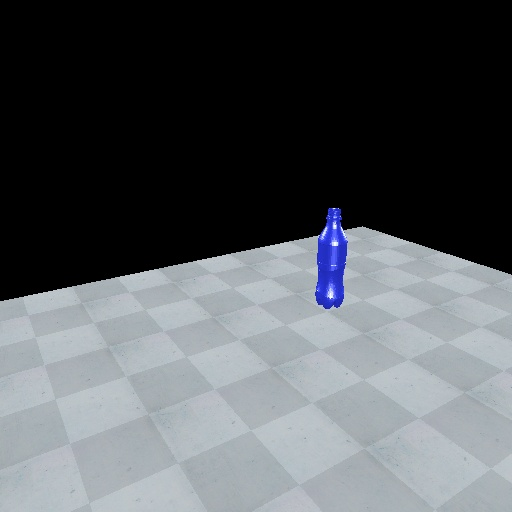bottle: (313, 205, 350, 311)
